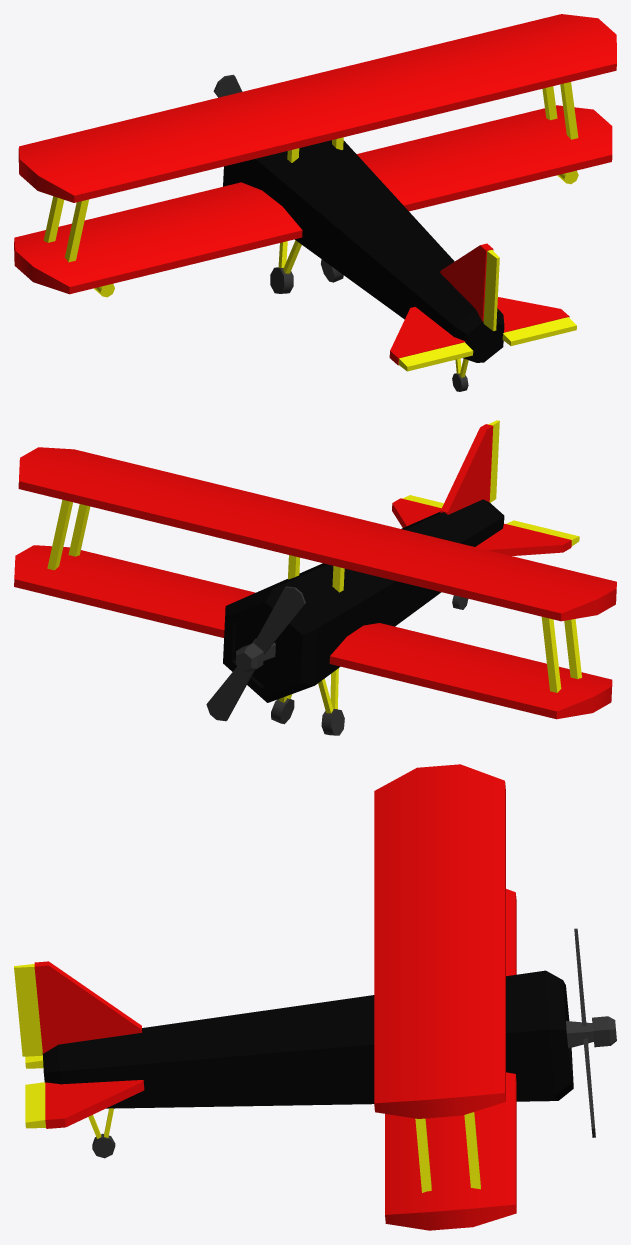
Rendered from AirPlane.fbx.
3 views of the same model, one above another, from view 1: azimuth 30°, elevation 25°; view 2: azimuth 150°, elevation 25°; view 3: azimuth 270°, elevation 25° (orthographic). The views are drawn at different scales.
Parts seen in each view (by area): view 1: Box004, Box003, Cylinder001, Box019, Box017, Box018, Box021, Box022, Rudder, Box009, Box008, Box010 (+1 smaller); view 2: Box004, Box003, Cylinder001, Box017, Box019, Box001, Box002, Box010, Box018, Box007, Box009, Cylinder003 (+5 smaller); view 3: Box004, Cylinder001, Box003, Box017, Box018, Rudder, Box022, Box007, Box008, Cylinder003.
Boxes of the visible parts, <box> form: Box004: <box>18,14,616,202</box>; Box003: <box>14,105,612,294</box>; Cylinder001: <box>223,140,504,362</box>; Box019: <box>389,307,465,365</box>; Box017: <box>440,243,493,321</box>; Box018: <box>497,297,569,332</box>; Box021: <box>398,342,473,371</box>; Box022: <box>502,317,576,345</box>; Rudder: <box>483,250,499,331</box>; Box009: <box>64,199,88,262</box>; Box008: <box>560,82,578,139</box>; Box010: <box>43,196,64,242</box>; Box004: <box>18,447,616,621</box>; Box003: <box>14,545,612,719</box>; Cylinder001: <box>223,499,504,702</box>; Box017: <box>440,424,493,514</box>; Box019: <box>475,524,571,555</box>; Box001: <box>254,586,305,654</box>; Box002: <box>206,666,254,721</box>; Box010: <box>541,616,561,692</box>; Box018: <box>392,498,441,527</box>; Box007: <box>47,499,72,570</box>; Box009: <box>564,619,581,679</box>; Cylinder003: <box>235,643,263,672</box>; Box004: <box>374,764,505,1118</box>; Cylinder001: <box>42,970,573,1108</box>; Box003: <box>385,889,516,1230</box>; Box017: <box>34,961,142,1053</box>; Box018: <box>45,1080,144,1128</box>; Rudder: <box>14,964,42,1056</box>; Box022: <box>25,1082,45,1128</box>; Box007: <box>464,1112,480,1189</box>; Box008: <box>415,1118,431,1192</box>; Cylinder003: <box>592,1016,616,1047</box>.
Size of the model in its own units: 120 by 39.58 by 91.8.
